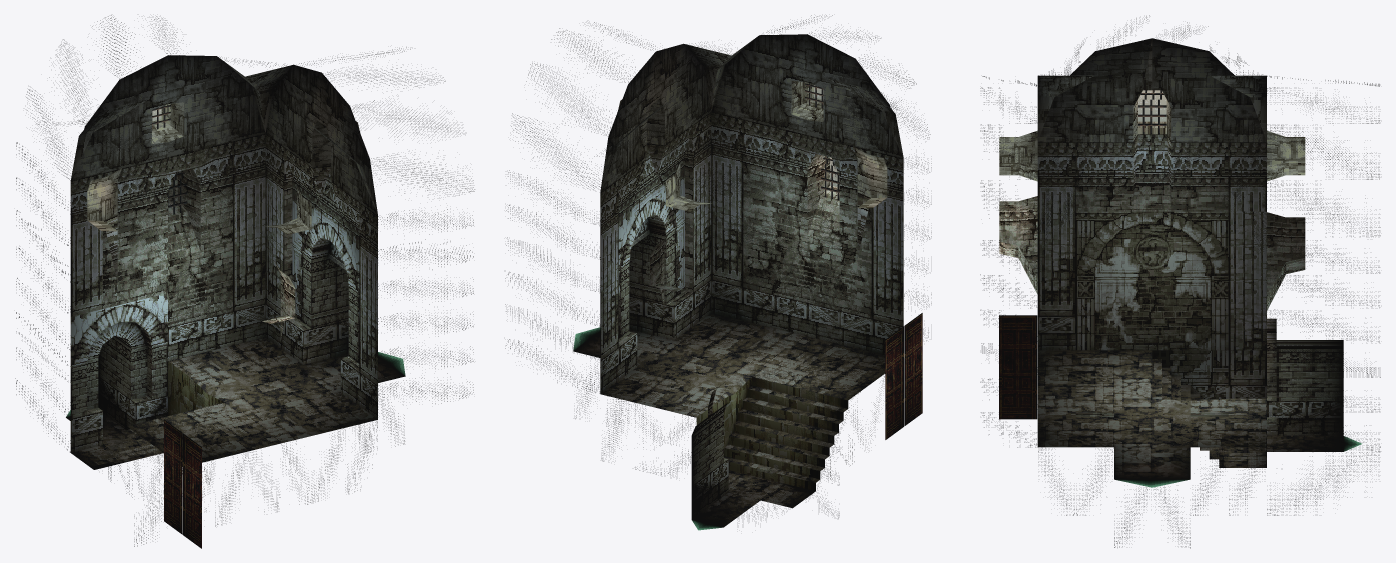
The model's file is MAP058.gltf.
3 views of the same model, side by side, from view 1: azimuth 30°, elevation 25°; view 2: azimuth 150°, elevation 25°; view 3: azimuth 270°, elevation 25° (orthographic). The views are drawn at different scales.
Size of the model in its own units: 134 by 141 by 134.
Materials: 51 (51 with a texture image).
